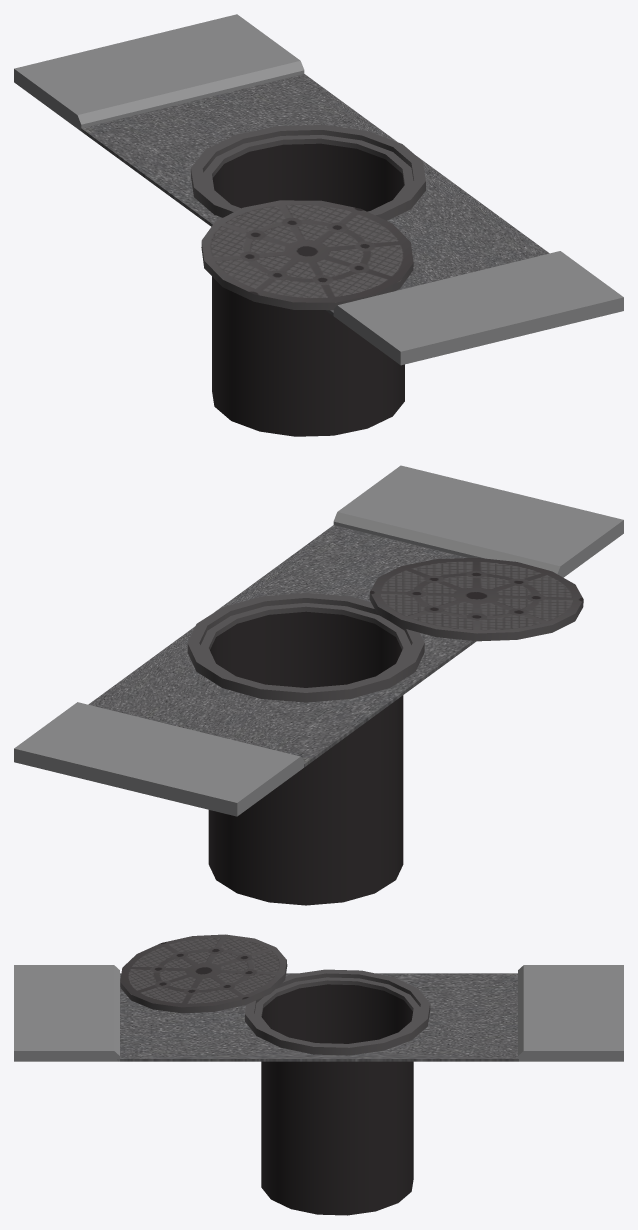
The model's file is obj_manhole_open_road 1.fbx.
The picture shows the model from 3 angles, top to bottom: view 1: azimuth 30°, elevation 25°; view 2: azimuth 150°, elevation 25°; view 3: azimuth 270°, elevation 25°; orthographic projection. The views are drawn at different scales.
Visible parts, largest first — view 1: obj_manhole_open_road; view 2: obj_manhole_open_road; view 3: obj_manhole_open_road.
Part boxes in pixels (bbox=[...]): obj_manhole_open_road: bbox=[14, 14, 623, 436]; obj_manhole_open_road: bbox=[14, 465, 623, 905]; obj_manhole_open_road: bbox=[14, 934, 623, 1215].
Bounding box in the file's own units: 6.08 × 4.75 × 14.15.
Materials: 1 (1 with a texture image).
